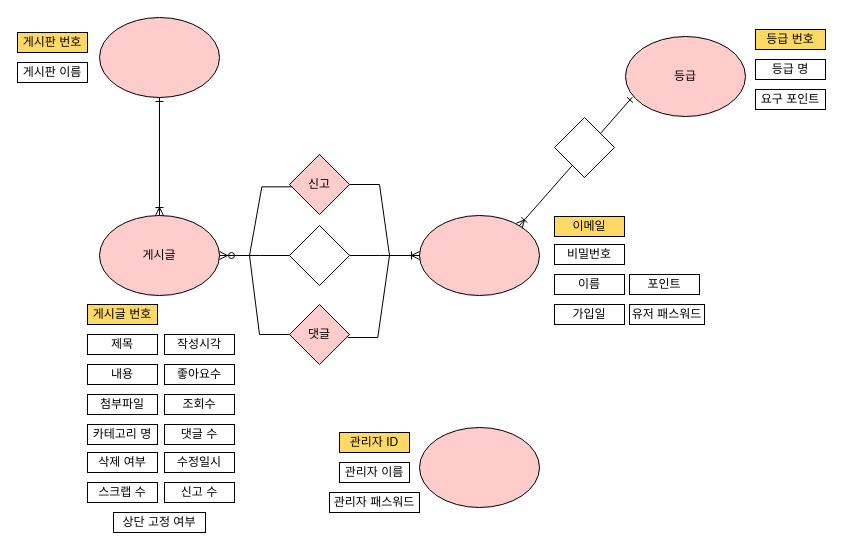
Some shapes in this 843 by 550 pixel diagram are drawn without their labels. Here are the shapes that lost their labels. From the top down, the centre of each, then its label:
At pixel 159 57: "게시판".
At pixel 584 147: "등급 설정".
At pixel 319 255: "게시글 작성".
At pixel 479 255: "유저".
At pixel 479 467: "관리자".
